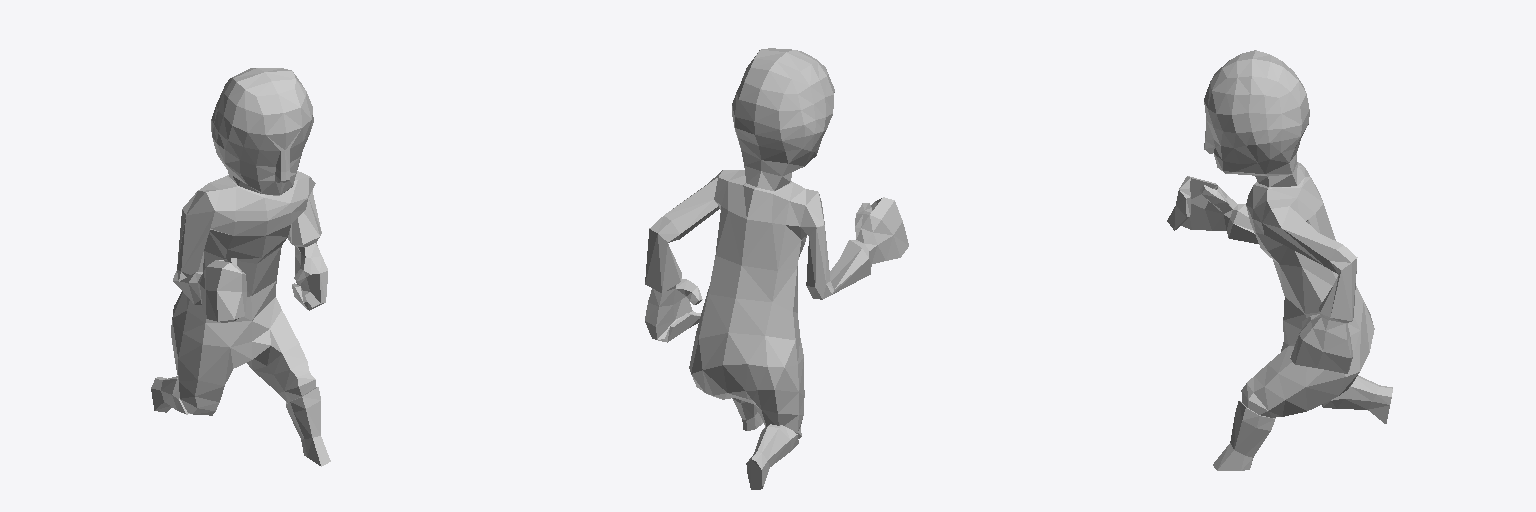
File: KnightCharacter15.obj
3 views of the same model, side by side, from view 1: azimuth 30°, elevation 25°; view 2: azimuth 150°, elevation 25°; view 3: azimuth 270°, elevation 25° (orthographic).
Visible parts, largest first — view 1: Knight; view 2: Knight; view 3: Knight.
Part boxes in pixels (bbox=[...]): Knight: bbox=[151, 68, 330, 466]; Knight: bbox=[645, 48, 908, 489]; Knight: bbox=[1167, 50, 1392, 470].
Bounding box in the file's own units: 2.51 × 5.13 × 2.7.